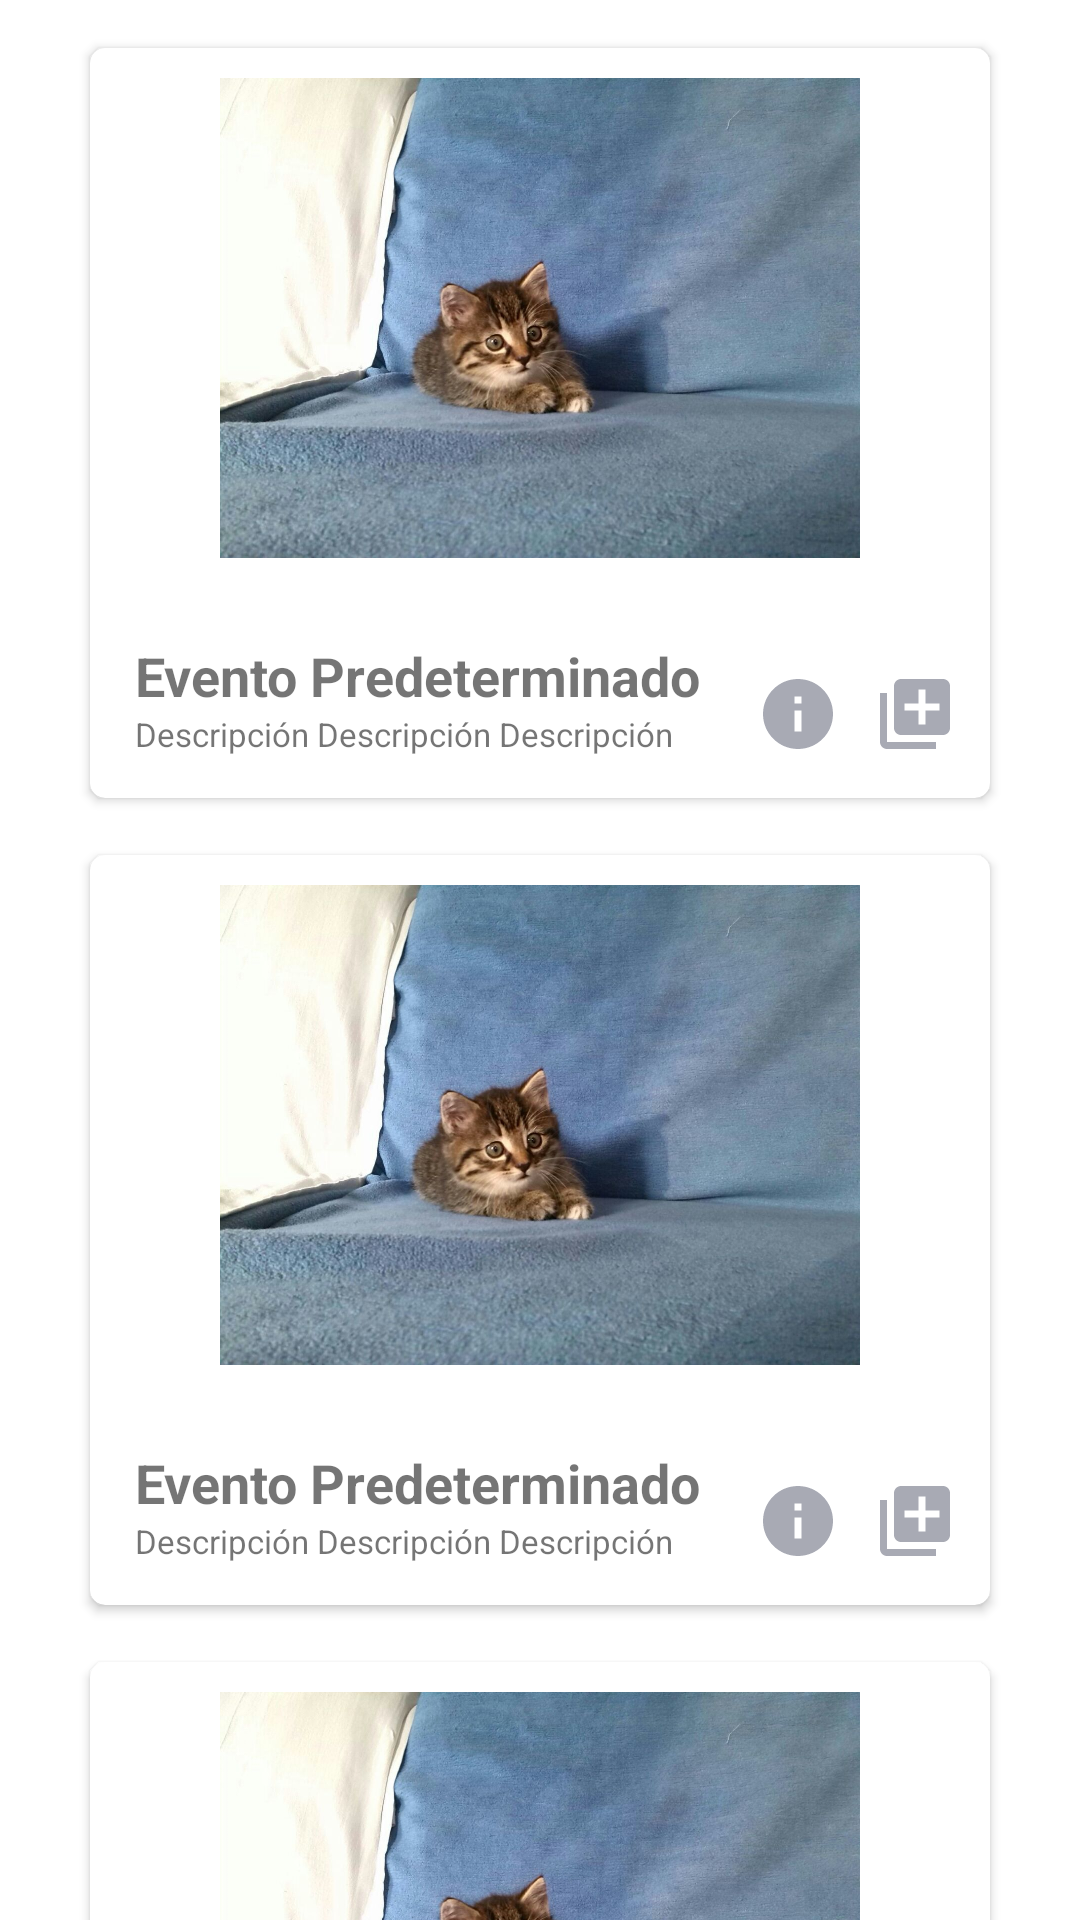

Named icons in this screenshot (1080×1920) and their centers, point (x, y):
add: point (915, 714), point (915, 1521)
info: point (798, 714), point (798, 1521)
